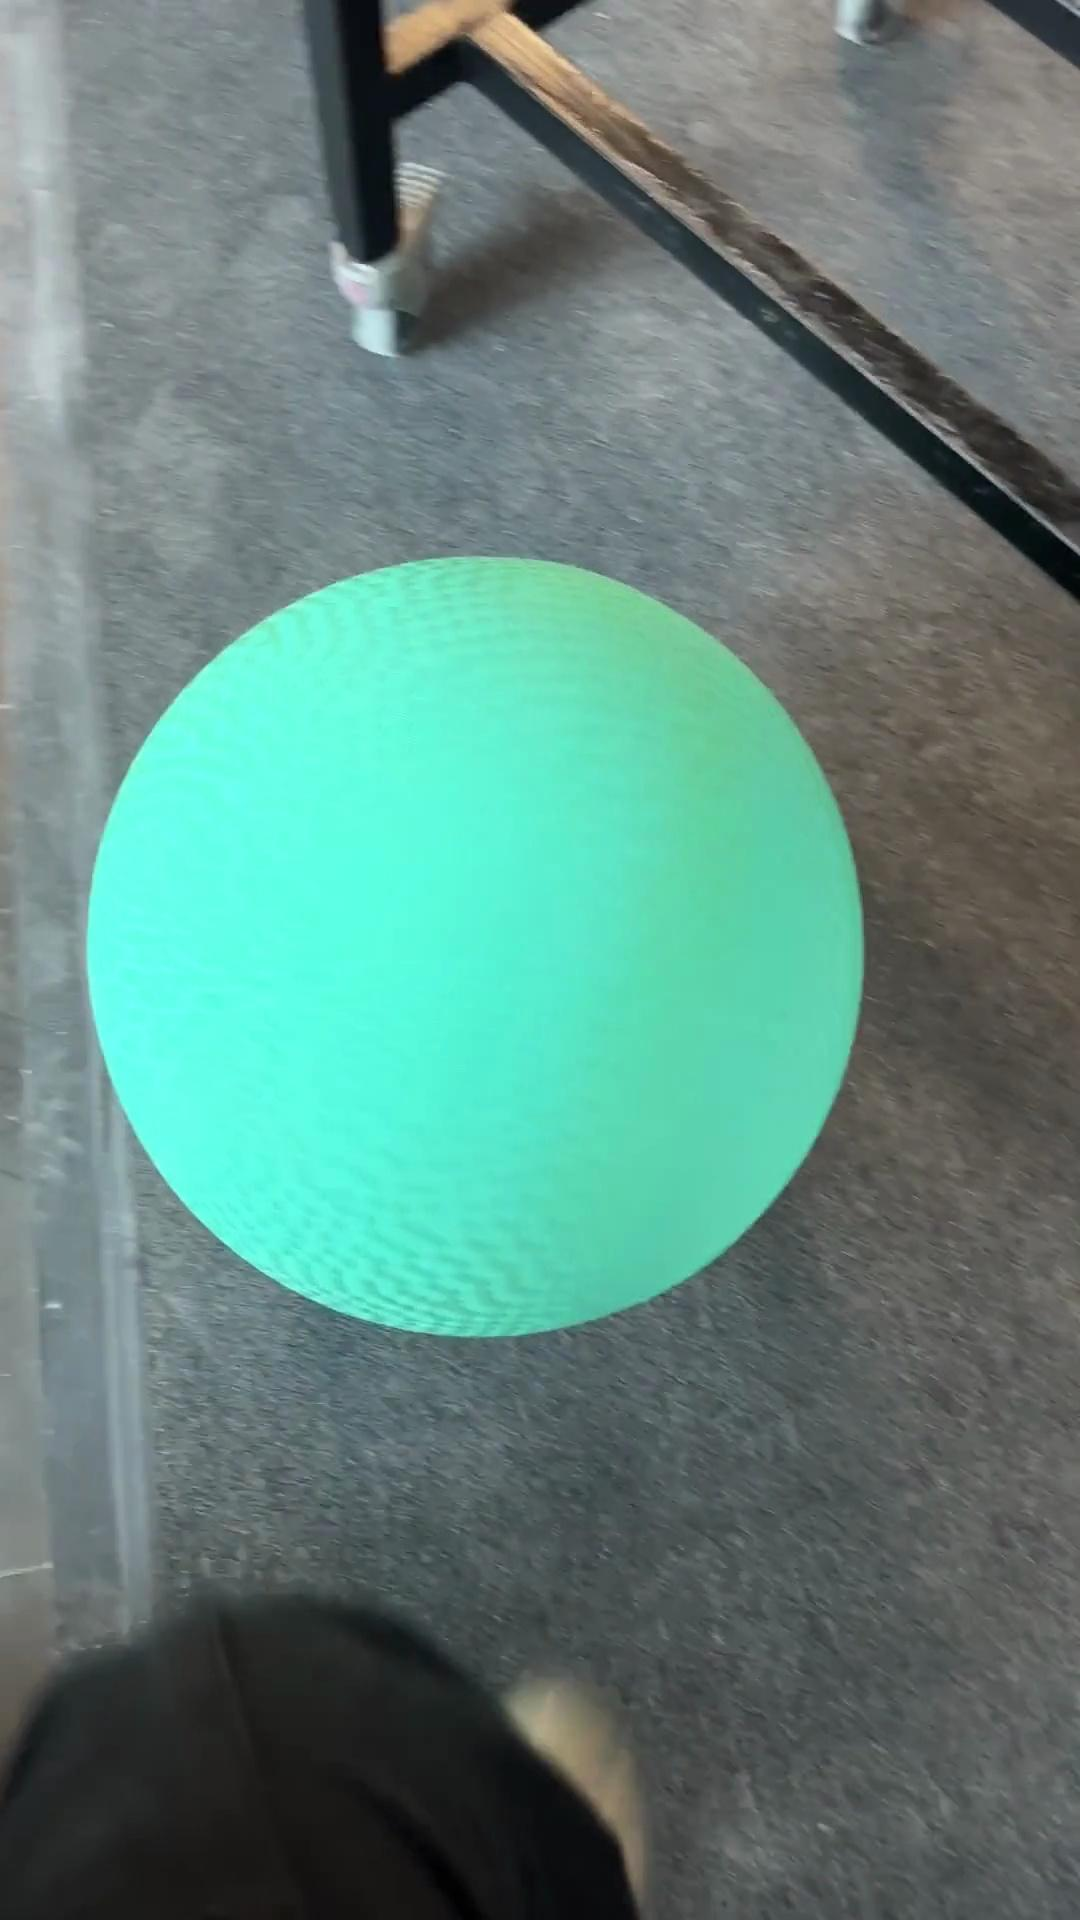ALGAE: (82, 551, 866, 1341)
